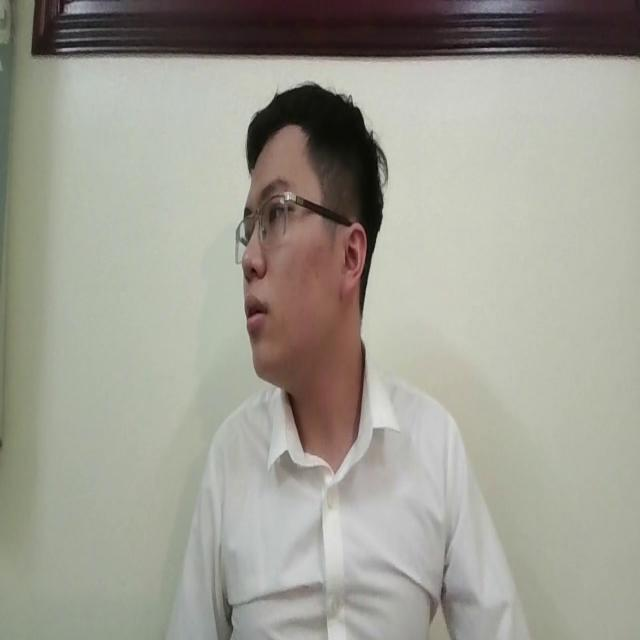student: (176, 73, 532, 640)
